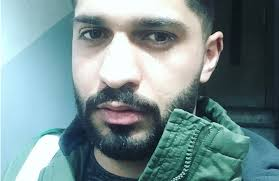middle_eastern_male: (63, 1, 191, 156)
